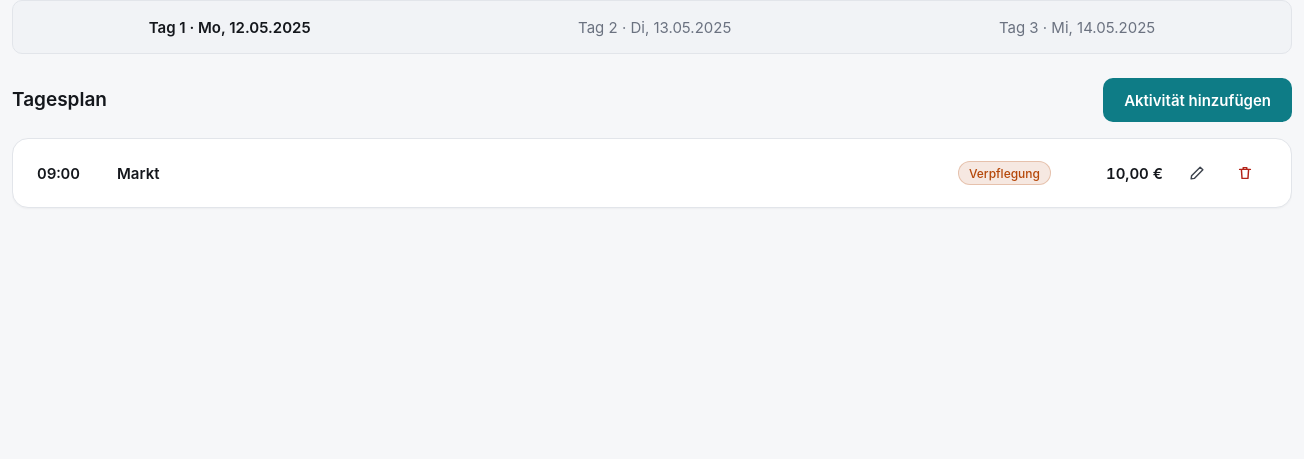
TripDetailPage — day plan › edits an activity in place and takes effect immediately
Click the button named "Bearbeiten": point(1197, 173) x1=1175 y1=151 x2=1219 y2=195
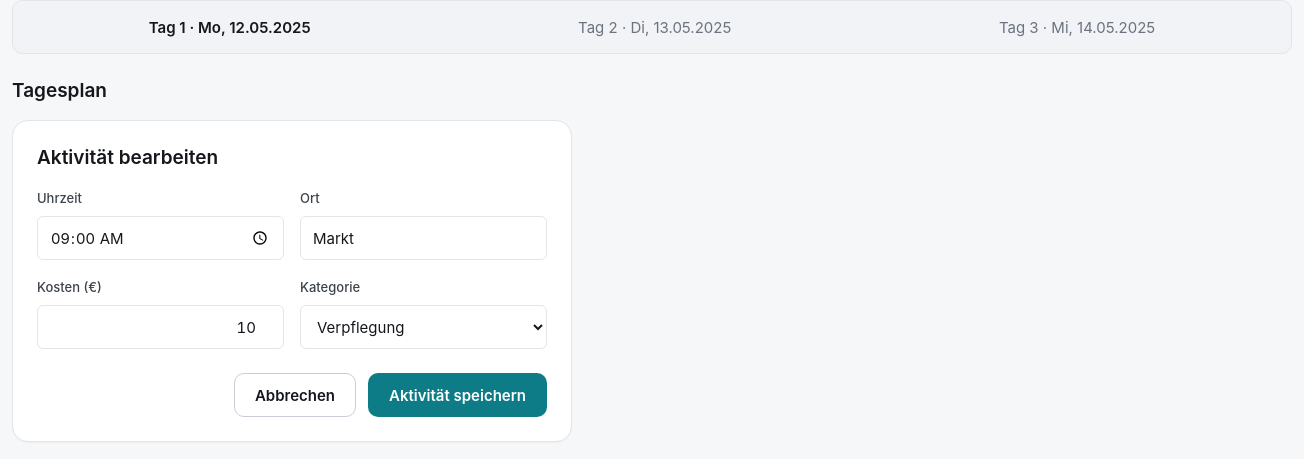
Expected: the field labelled "Ort" holds "Markt"
Replace the text in the field labelled "Ort" with "Supermarkt": point(424, 238) x1=300 y1=216 x2=547 y2=260
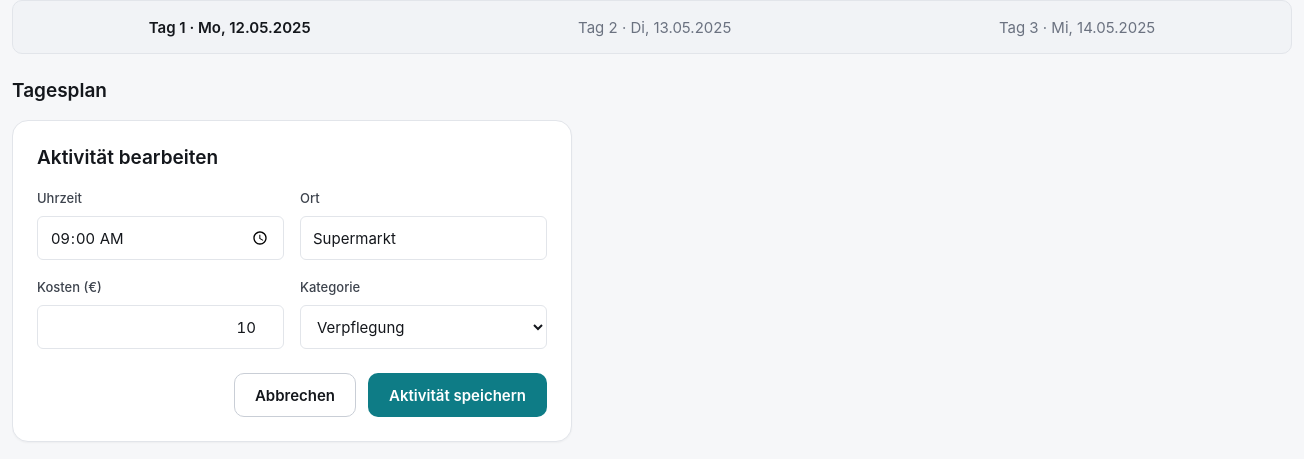
Click the button "Aktivität speichern": point(458, 395) x1=368 y1=373 x2=547 y2=417
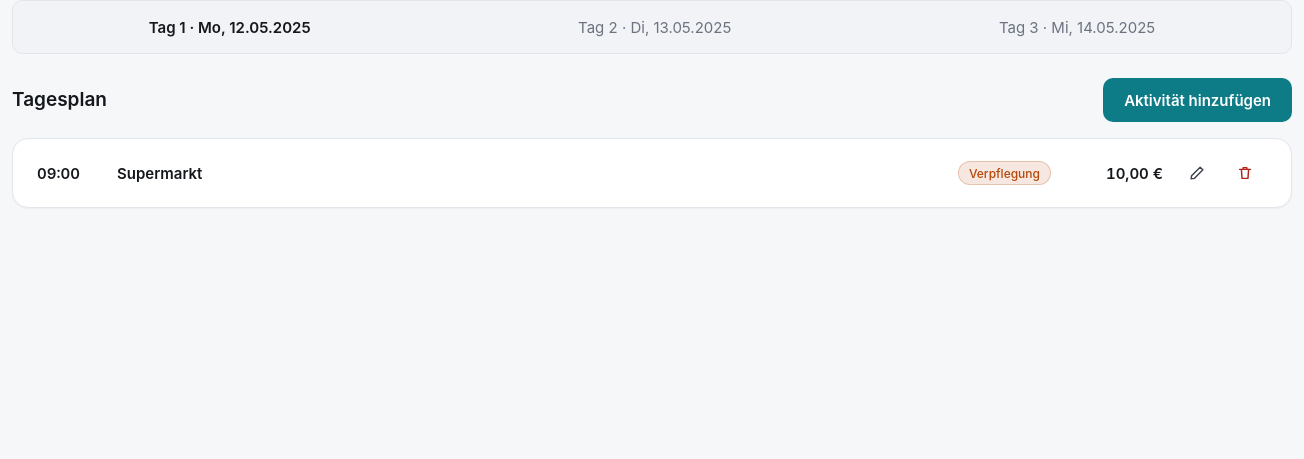
Expected: the text "Supermarkt" is shown, x1=117 y1=164 x2=202 y2=182
